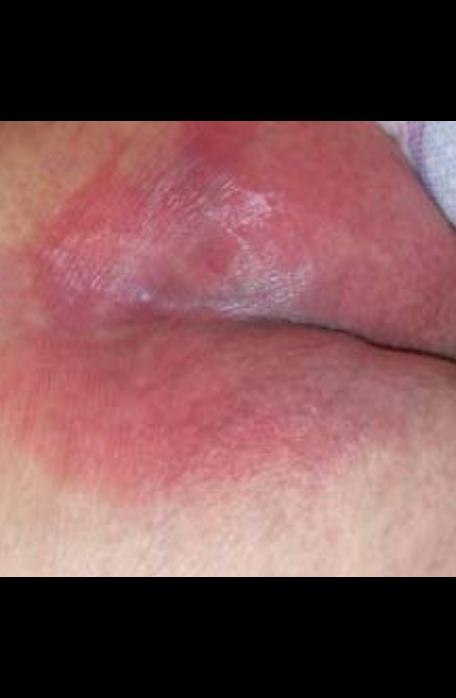Stage1: (0, 121, 456, 513)
